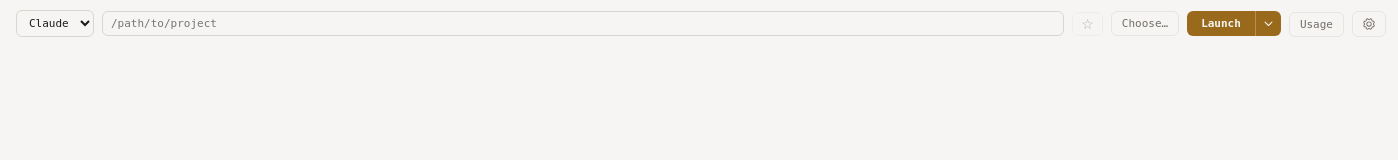
Test case: LaunchBar › shows the failure reason instead of failing silently
In the field named "Working directory": [583, 24] box [102,11,1064,36], type "/tmp/proj"
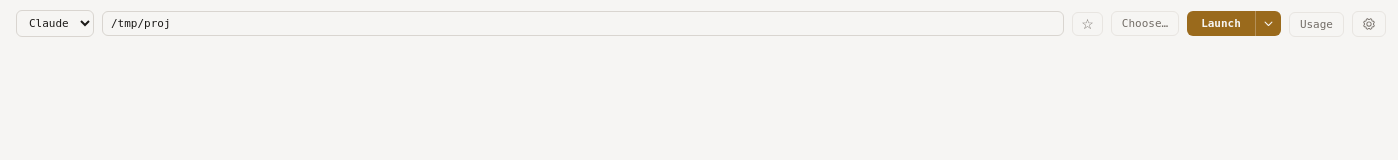
Click the button "Launch": [1221, 24] box [1187,11,1255,36]
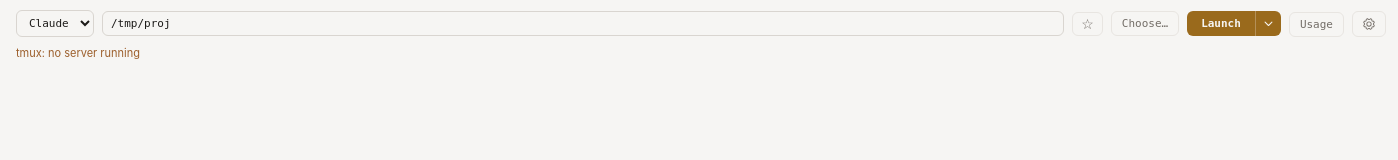
Expected: the text "tmux: no server running" is shown, [16,46,140,60]
